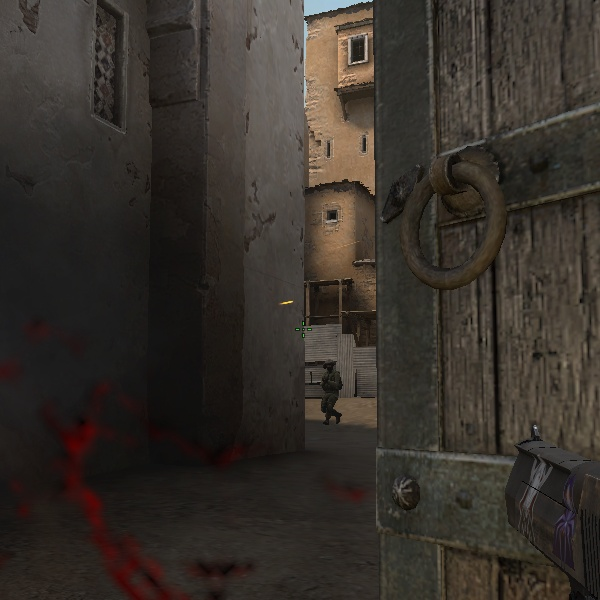ct_body: (312, 356, 349, 423)
ct_head: (320, 357, 338, 375)
